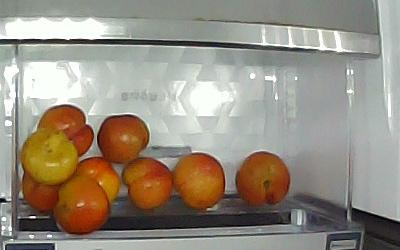prune: (35, 105, 93, 162), (22, 129, 77, 186), (53, 178, 109, 233), (235, 152, 291, 206), (174, 152, 226, 209), (122, 158, 174, 210), (97, 114, 149, 164), (75, 157, 120, 204), (21, 172, 59, 213)
